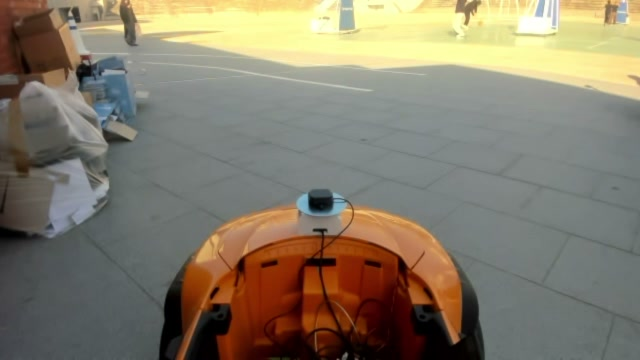Lane: (134, 62, 374, 93)
